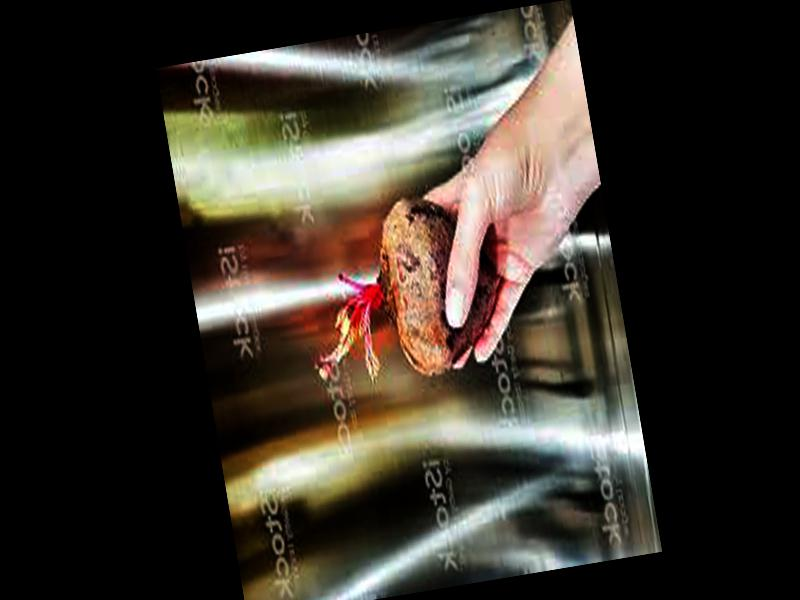Beet: (295, 188, 511, 393)
